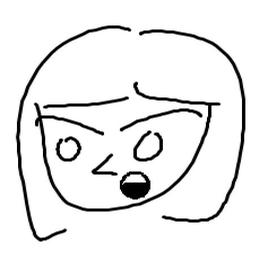empty_eye: (129, 127, 172, 163), (52, 134, 83, 165)
frowning_eyebrow: (114, 106, 203, 132), (28, 113, 107, 136)
pointy_nose: (119, 169, 152, 200), (89, 151, 119, 178)
